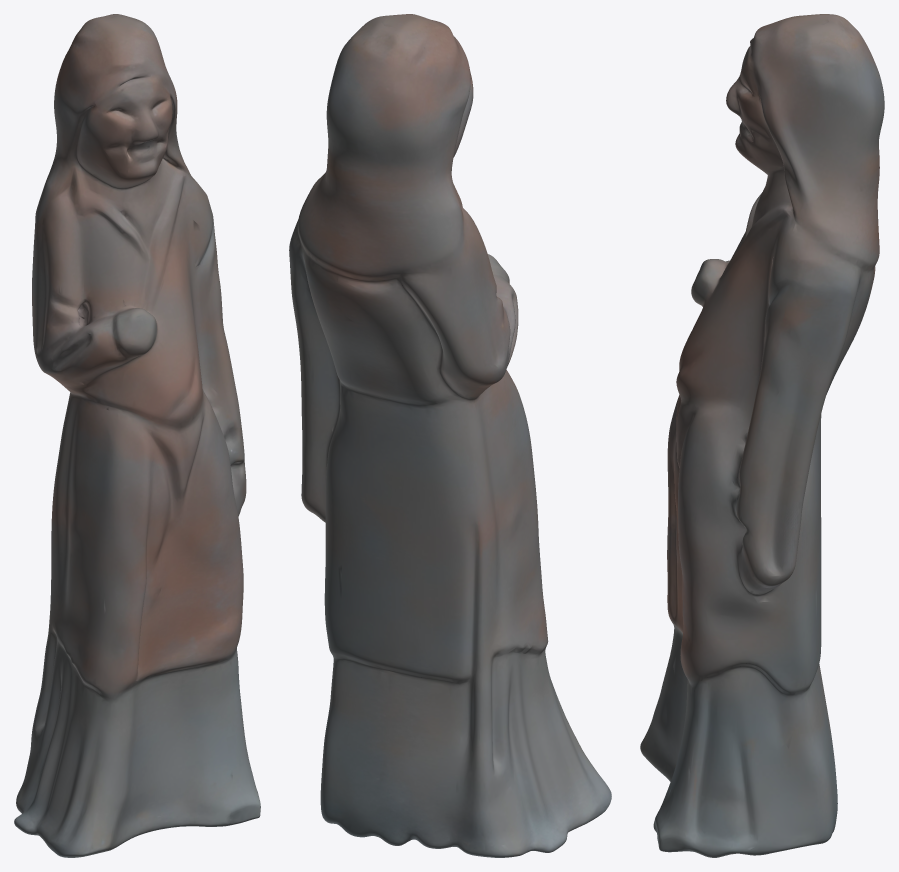
The picture shows the model from 3 angles, left to right: view 1: azimuth 30°, elevation 25°; view 2: azimuth 150°, elevation 25°; view 3: azimuth 270°, elevation 25°; orthographic projection. The views are drawn at different scales.
Visible parts, largest first — view 1: node_0; view 2: node_0; view 3: node_0.
Boxes of the visible parts, left/top/right/bottom form: node_0: left=14, top=14, right=260, bottom=857; node_0: left=289, top=14, right=611, bottom=857; node_0: left=640, top=14, right=884, bottom=857.
Size of the model in its own units: 0.3588 by 1.14 by 0.3158.
Materials: 1 (1 with a texture image).
